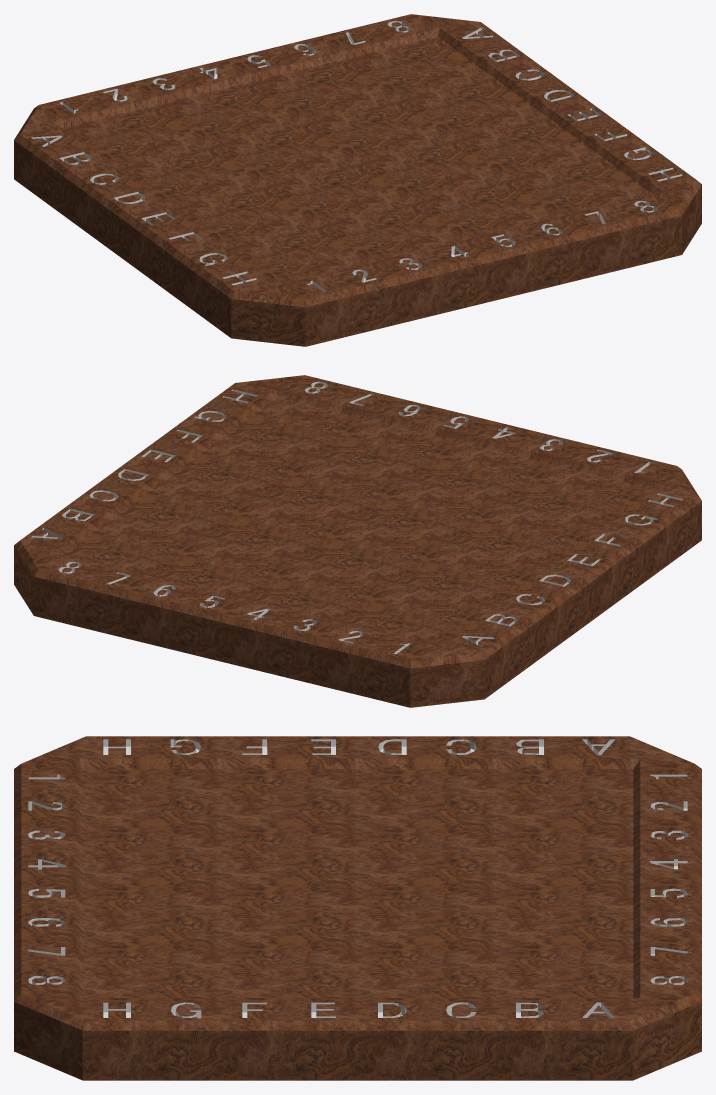
File: BOARD.fbx
3 renders of one model, top to bottom at view 1: azimuth 30°, elevation 25°; view 2: azimuth 150°, elevation 25°; view 3: azimuth 270°, elevation 25°, orthographic. The views are drawn at different scales.
Visible parts, largest first — view 1: Cube, Letters.1.2; view 2: Cube, Letters.1.2; view 3: Cube, Letters.1.2.
Boxes of the visible parts, x1,y1,x2,y2 form: Cube: [14, 14, 701, 346]; Letters.1.2: [31, 20, 683, 291]; Cube: [14, 375, 701, 707]; Letters.1.2: [31, 381, 683, 654]; Cube: [14, 736, 701, 1080]; Letters.1.2: [28, 739, 687, 1018].
Bounding box in the file's own units: 1000 × 90.5 × 1000.
Materials: 1 (1 with a texture image).
